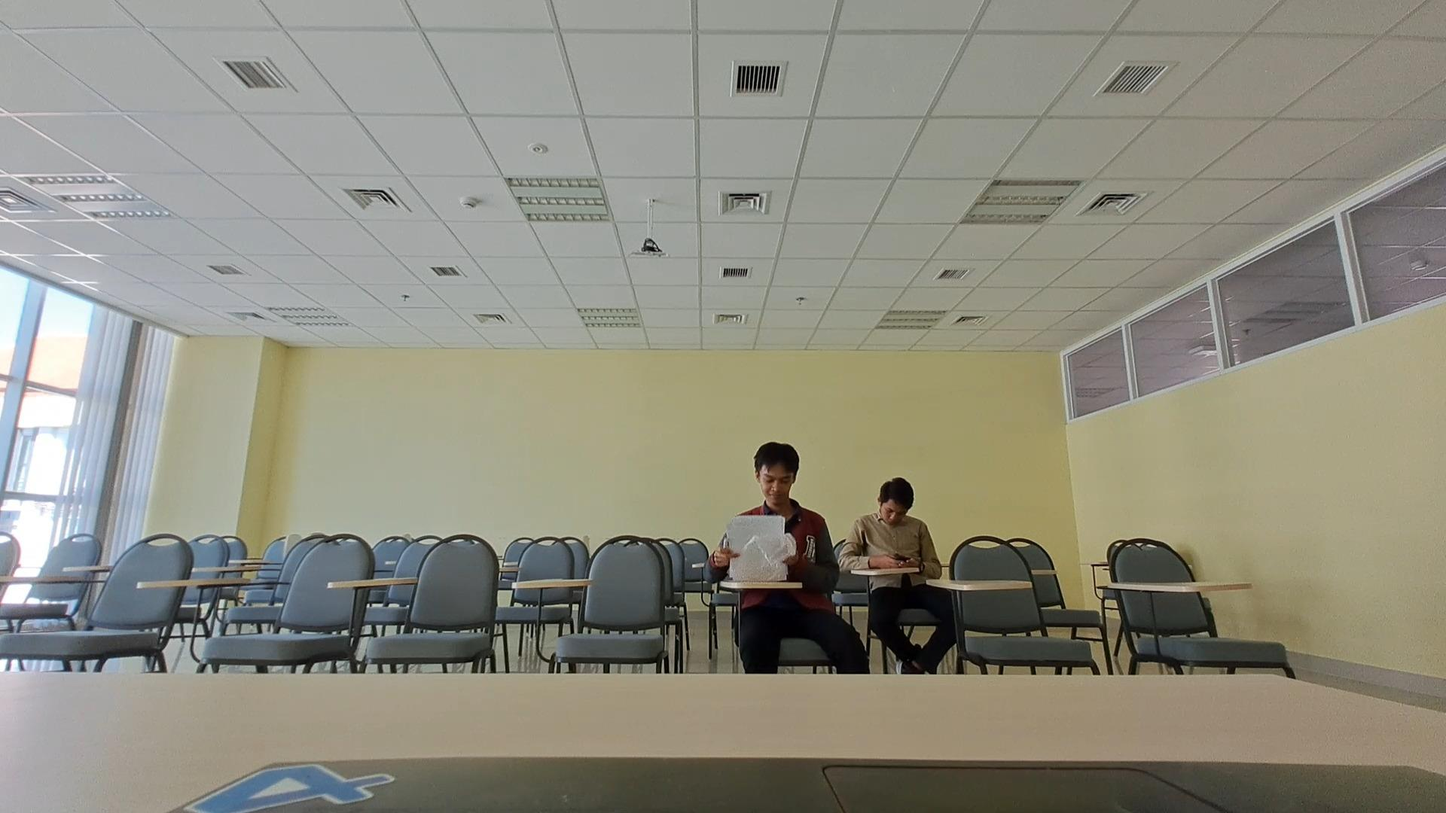phone: (843, 477, 941, 569)
study: (711, 439, 835, 589)
